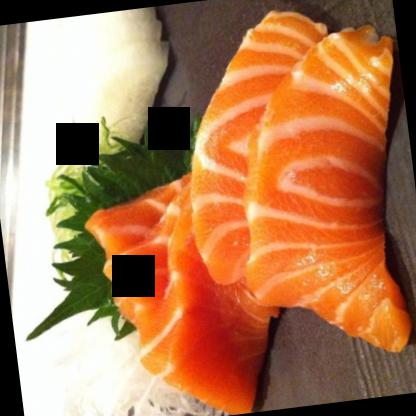salmon: (219, 21, 415, 369), (178, 5, 364, 290), (87, 160, 282, 415)
